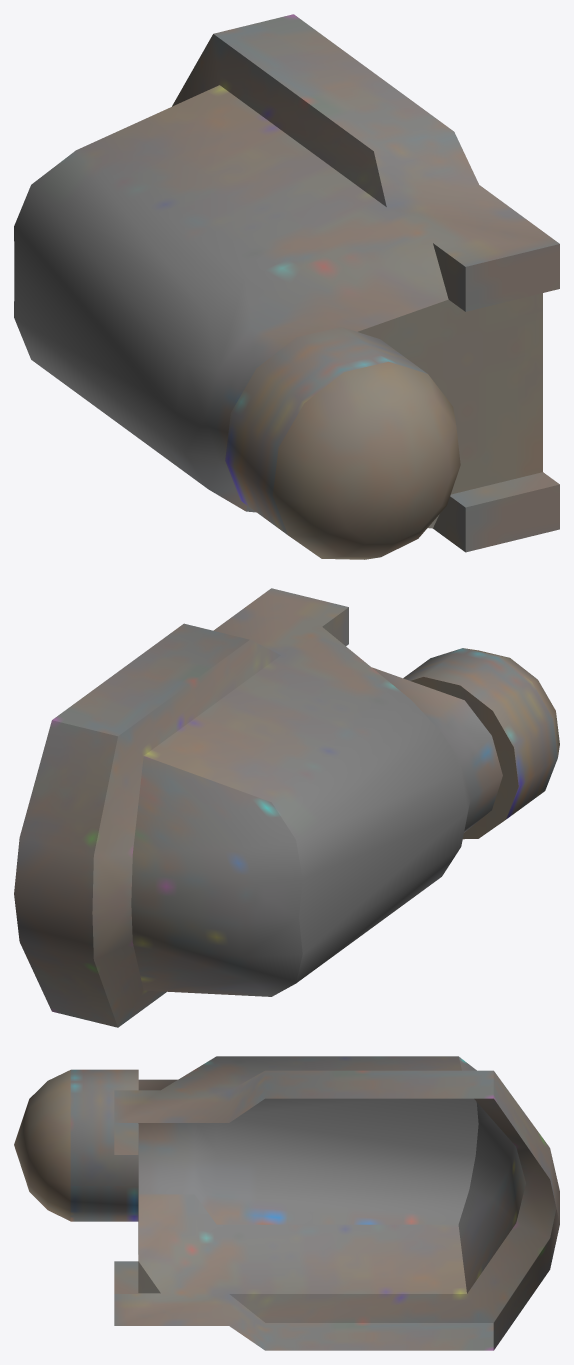
The model's file is acc3.obj.
The picture shows the model from 3 angles, top to bottom: view 1: azimuth 30°, elevation 25°; view 2: azimuth 150°, elevation 25°; view 3: azimuth 270°, elevation 25°; orthographic projection. The views are drawn at different scales.
Parts seen in each view (by area): view 1: acc3; view 2: acc3; view 3: acc3.
Boxes of the visible parts, left/top/right/bottom form: acc3: left=14, top=14, right=559, bottom=559; acc3: left=14, top=588, right=559, bottom=1027; acc3: left=14, top=1056, right=559, bottom=1350.
Bounding box in the file's own units: 6.07 × 6.47 × 12.69.
